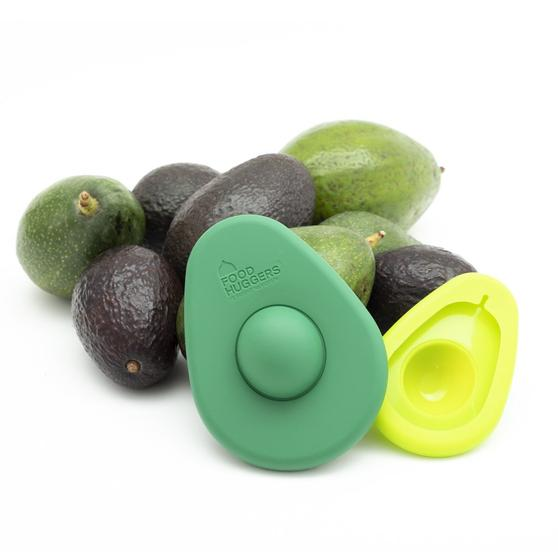avocado: (62, 239, 189, 393), (287, 112, 442, 233), (14, 174, 148, 297), (171, 150, 323, 239)
